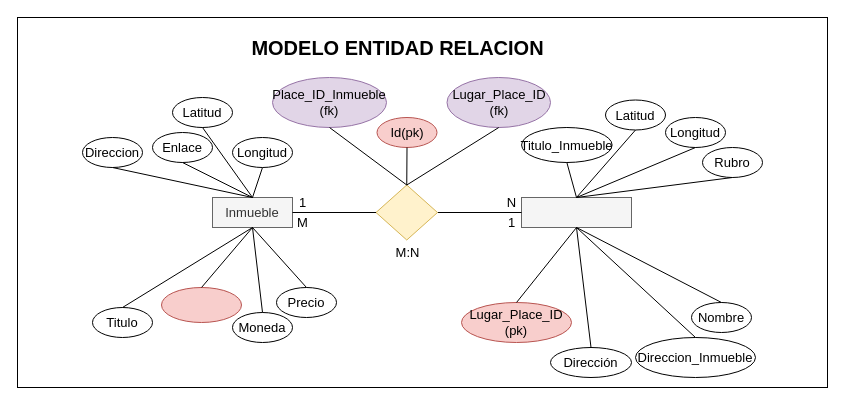
The diagram is 845 pixels wide and 405 high, and some of its shapes have lost their labels. The shapes that lost their labels are listed below. From the top down, each one's centre as x and y in pixels, then its label:
(x=406, y=212): tener
(x=576, y=212): LugaresCercanos
(x=201, y=304): Place_ID (pk)
